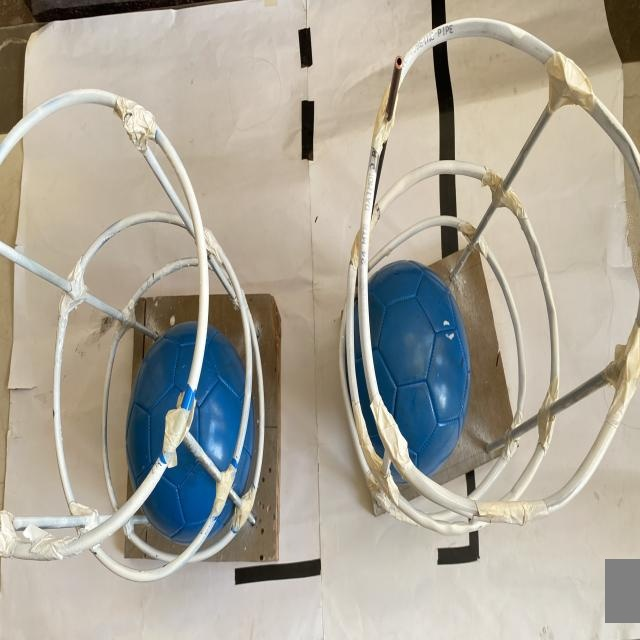blue_ball: (125, 317, 254, 543), (347, 259, 471, 479)
silo: (342, 15, 640, 542), (0, 81, 285, 566)
